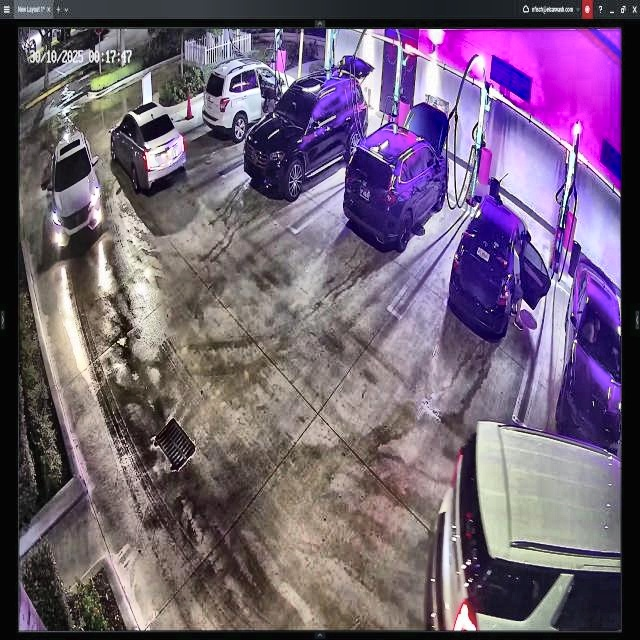Car: (433, 414, 622, 631), (244, 52, 369, 194), (346, 107, 448, 249), (449, 192, 549, 335), (115, 108, 184, 186)
